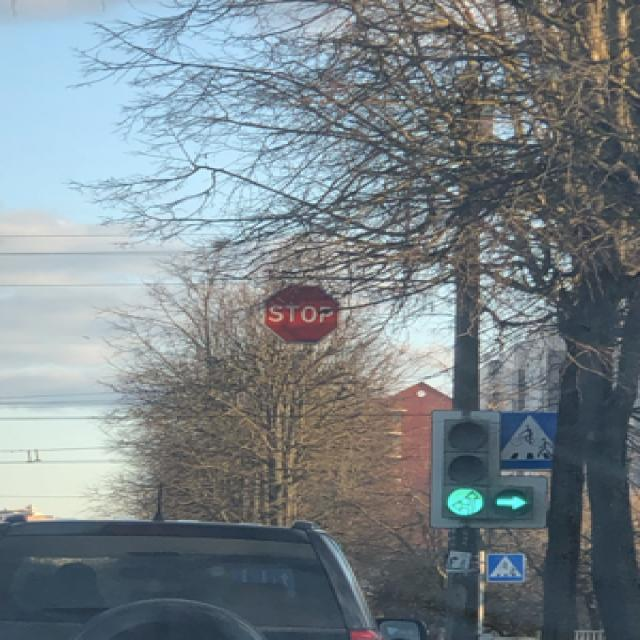crosswalk: (499, 412, 563, 471), (484, 549, 523, 582)
stop: (260, 285, 337, 344)
trafficlight: (438, 416, 534, 518)
